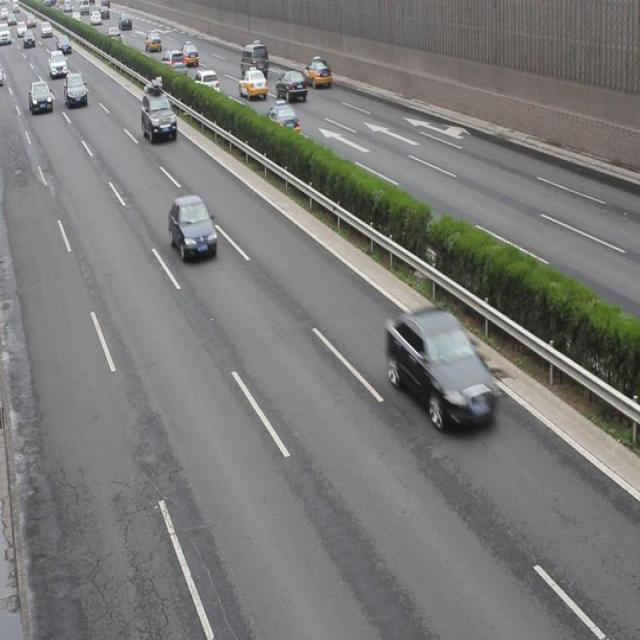car: (385, 304, 492, 427), (168, 193, 215, 262), (141, 82, 177, 143), (261, 103, 298, 140), (274, 69, 307, 103), (302, 57, 332, 89), (238, 68, 267, 100), (192, 70, 220, 102)
